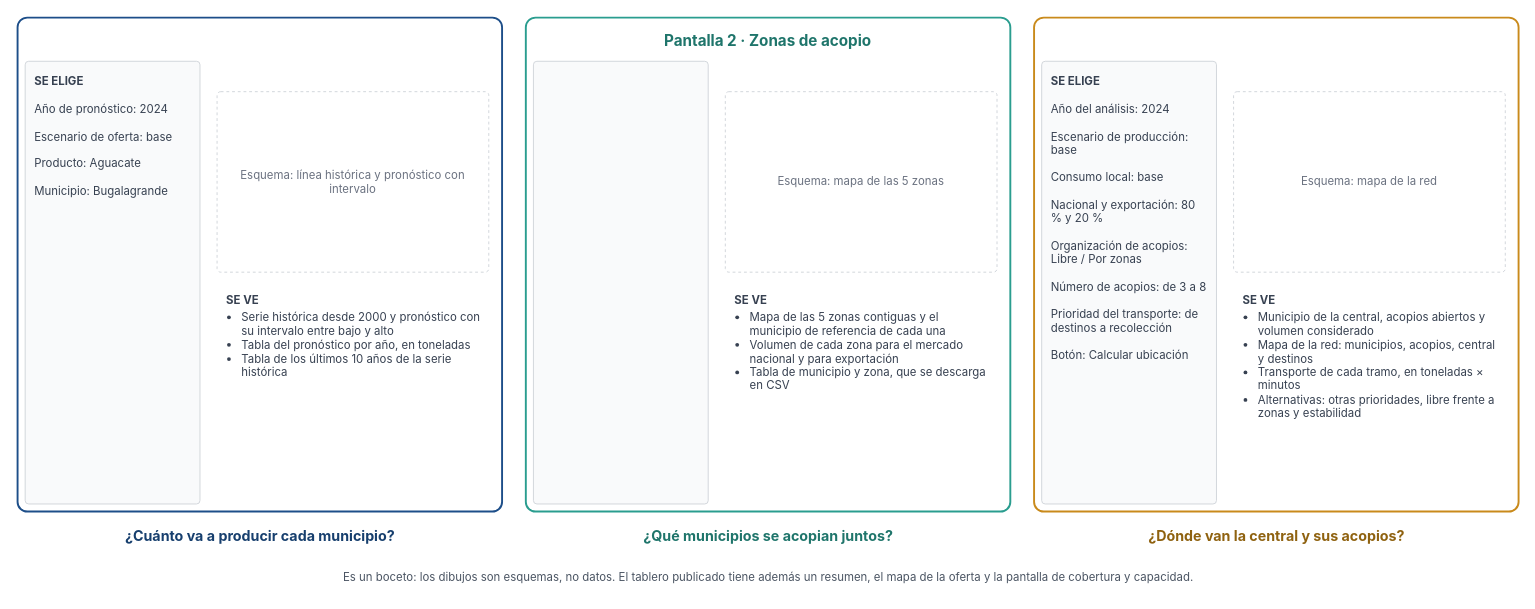
Some shapes in this 1535 by 609 pixel diagram are drawn without their labels. The box of each missing label's shape, as (x1, y1, x2, y2) in pixels:
Pantalla 1 · Oferta: (16, 16, 503, 512)
Pantalla 3 · Ubicación: (1033, 16, 1519, 512)
SE ELIGE Año: 2024 Escenario de optimización: oferta base, 80/20: (532, 60, 708, 504)
